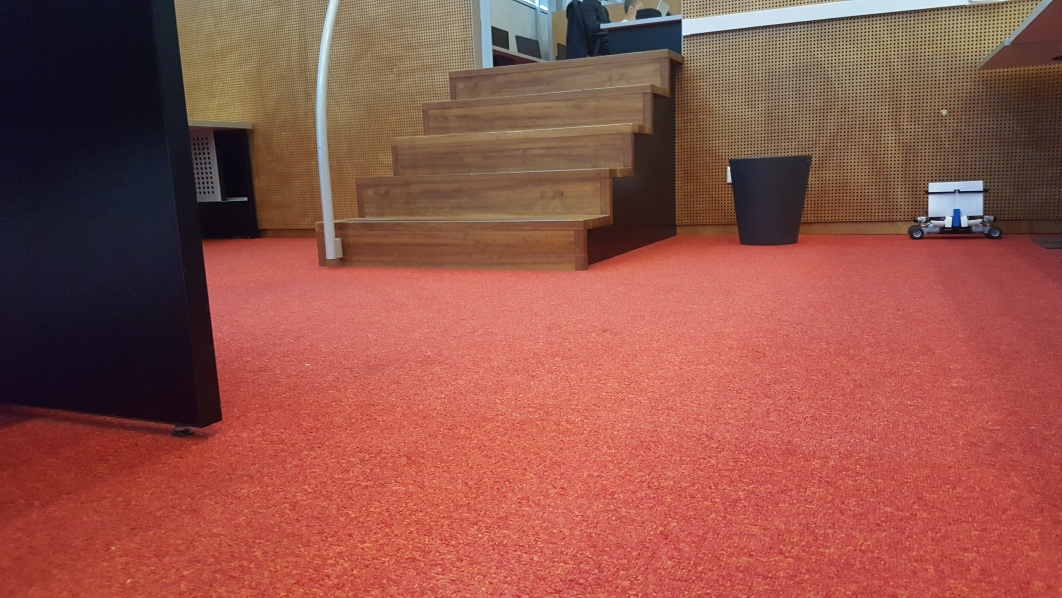car: (911, 180, 1000, 241)
